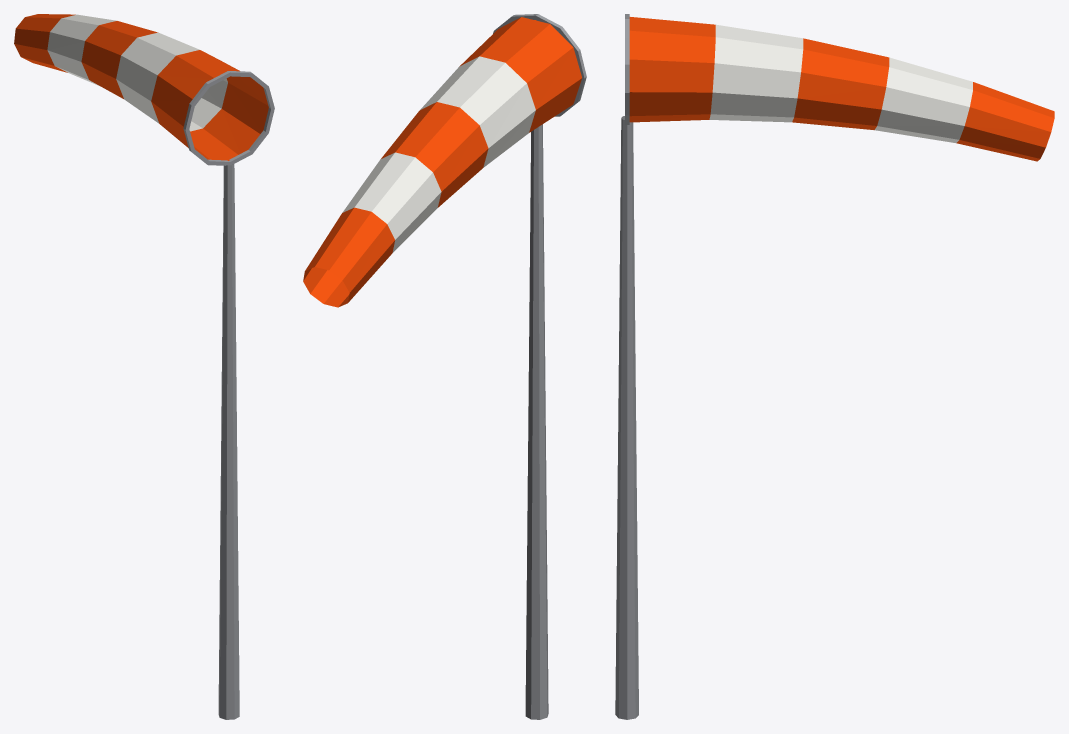
File: bne_windsock.dae
3 views of the same model, side by side, from view 1: azimuth 30°, elevation 25°; view 2: azimuth 150°, elevation 25°; view 3: azimuth 270°, elevation 25° (orthographic). The views are drawn at different scales.
Parts seen in each view (by area): view 1: orange, frame, white; view 2: orange, frame, white; view 3: orange, white, frame.
Part boxes in pixels (left/top/right/bottom): orange: left=14, top=14, right=268, bottom=160; frame: left=183, top=71, right=274, bottom=719; white: left=47, top=14, right=227, bottom=131; orange: left=303, top=17, right=581, bottom=307; frame: left=493, top=14, right=586, bottom=719; white: left=342, top=56, right=535, bottom=252; orange: left=629, top=17, right=1054, bottom=161; white: left=709, top=24, right=972, bottom=142; frame: left=615, top=14, right=638, bottom=719.
Size of the model in its own units: 0.94 by 3.7 by 6.47.
